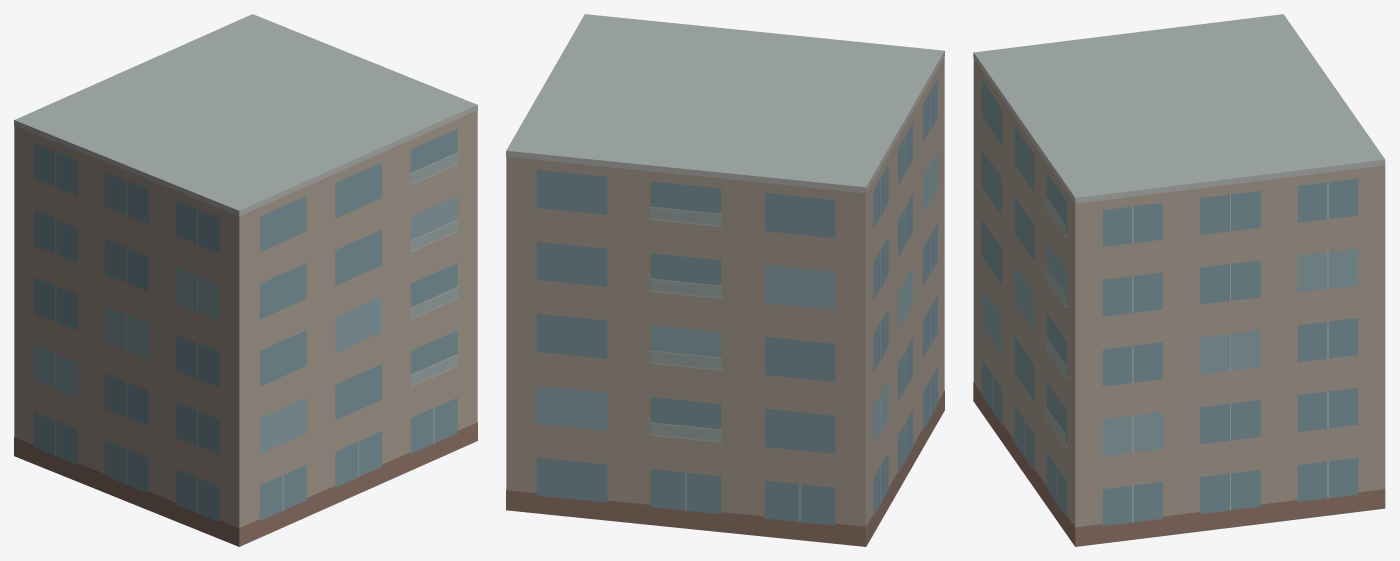
The model's file is survey-upis-32626158.glb.
The picture shows the model from 3 angles, left to right: view 1: azimuth 30°, elevation 25°; view 2: azimuth 150°, elevation 25°; view 3: azimuth 270°, elevation 25°; orthographic projection. The views are drawn at different scales.
Visible parts, largest first — view 1: survey-upis-32626158.tmp; view 2: survey-upis-32626158.tmp; view 3: survey-upis-32626158.tmp.
Part boxes in pixels (box(x1,y1,x2,y2)): survey-upis-32626158.tmp: box(14, 14, 477, 546); survey-upis-32626158.tmp: box(506, 14, 944, 546); survey-upis-32626158.tmp: box(973, 14, 1385, 546).
Bounding box in the file's own units: 16.86 × 14.9 × 15.95.
